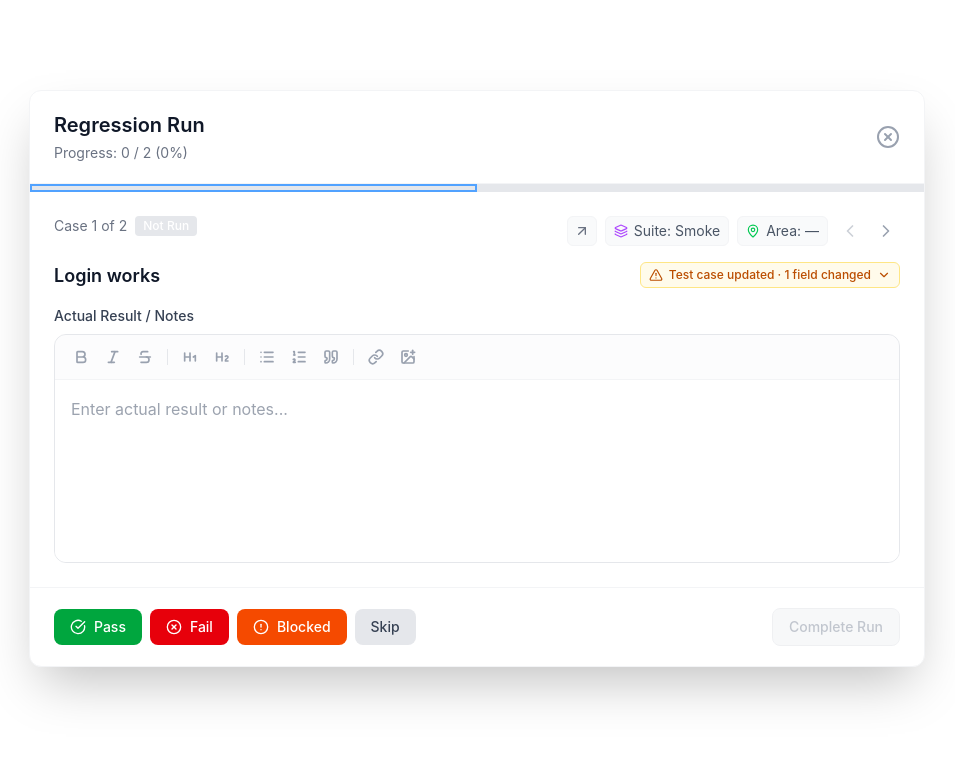
Test: ExecuteRunModal snapshot divergence › shows an amber chip and expandable diff when the live case differs from the snapshot
Step 1. Click the button "Test case updated · 1 field changed" → point(770, 274), box [640,262,900,288]
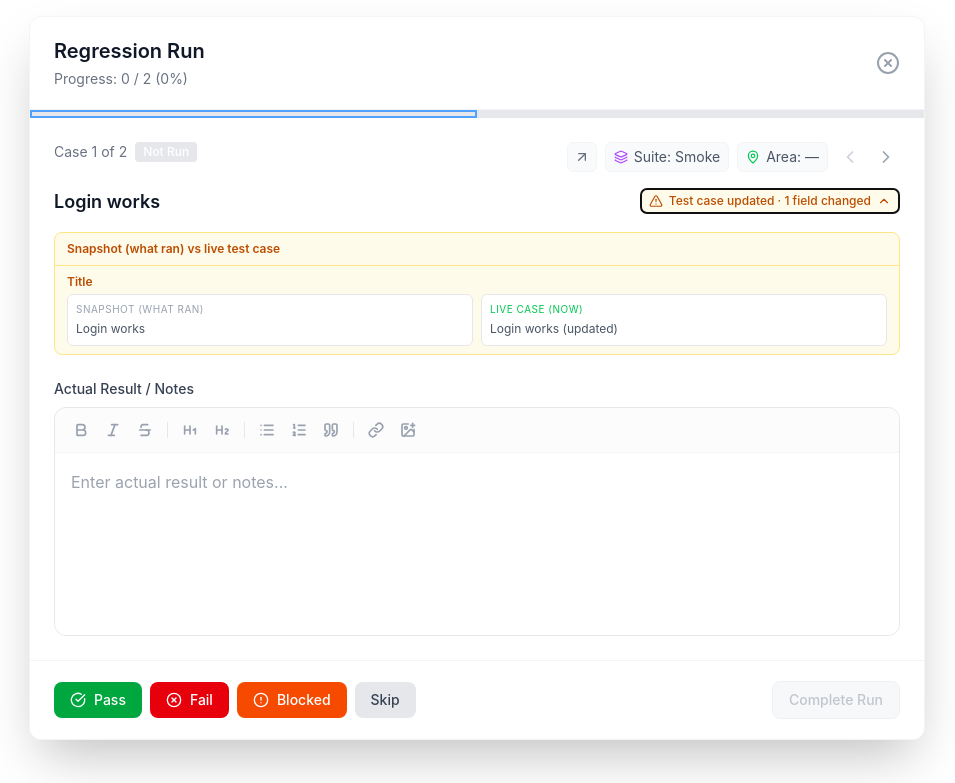
Expected: the text "Snapshot (what ran)" is shown, [76,303,204,315]
Expected: the text "Live case (now)" is shown, [490,303,583,315]
Expected: the text "Login works (updated)" is shown, [490,321,618,336]
